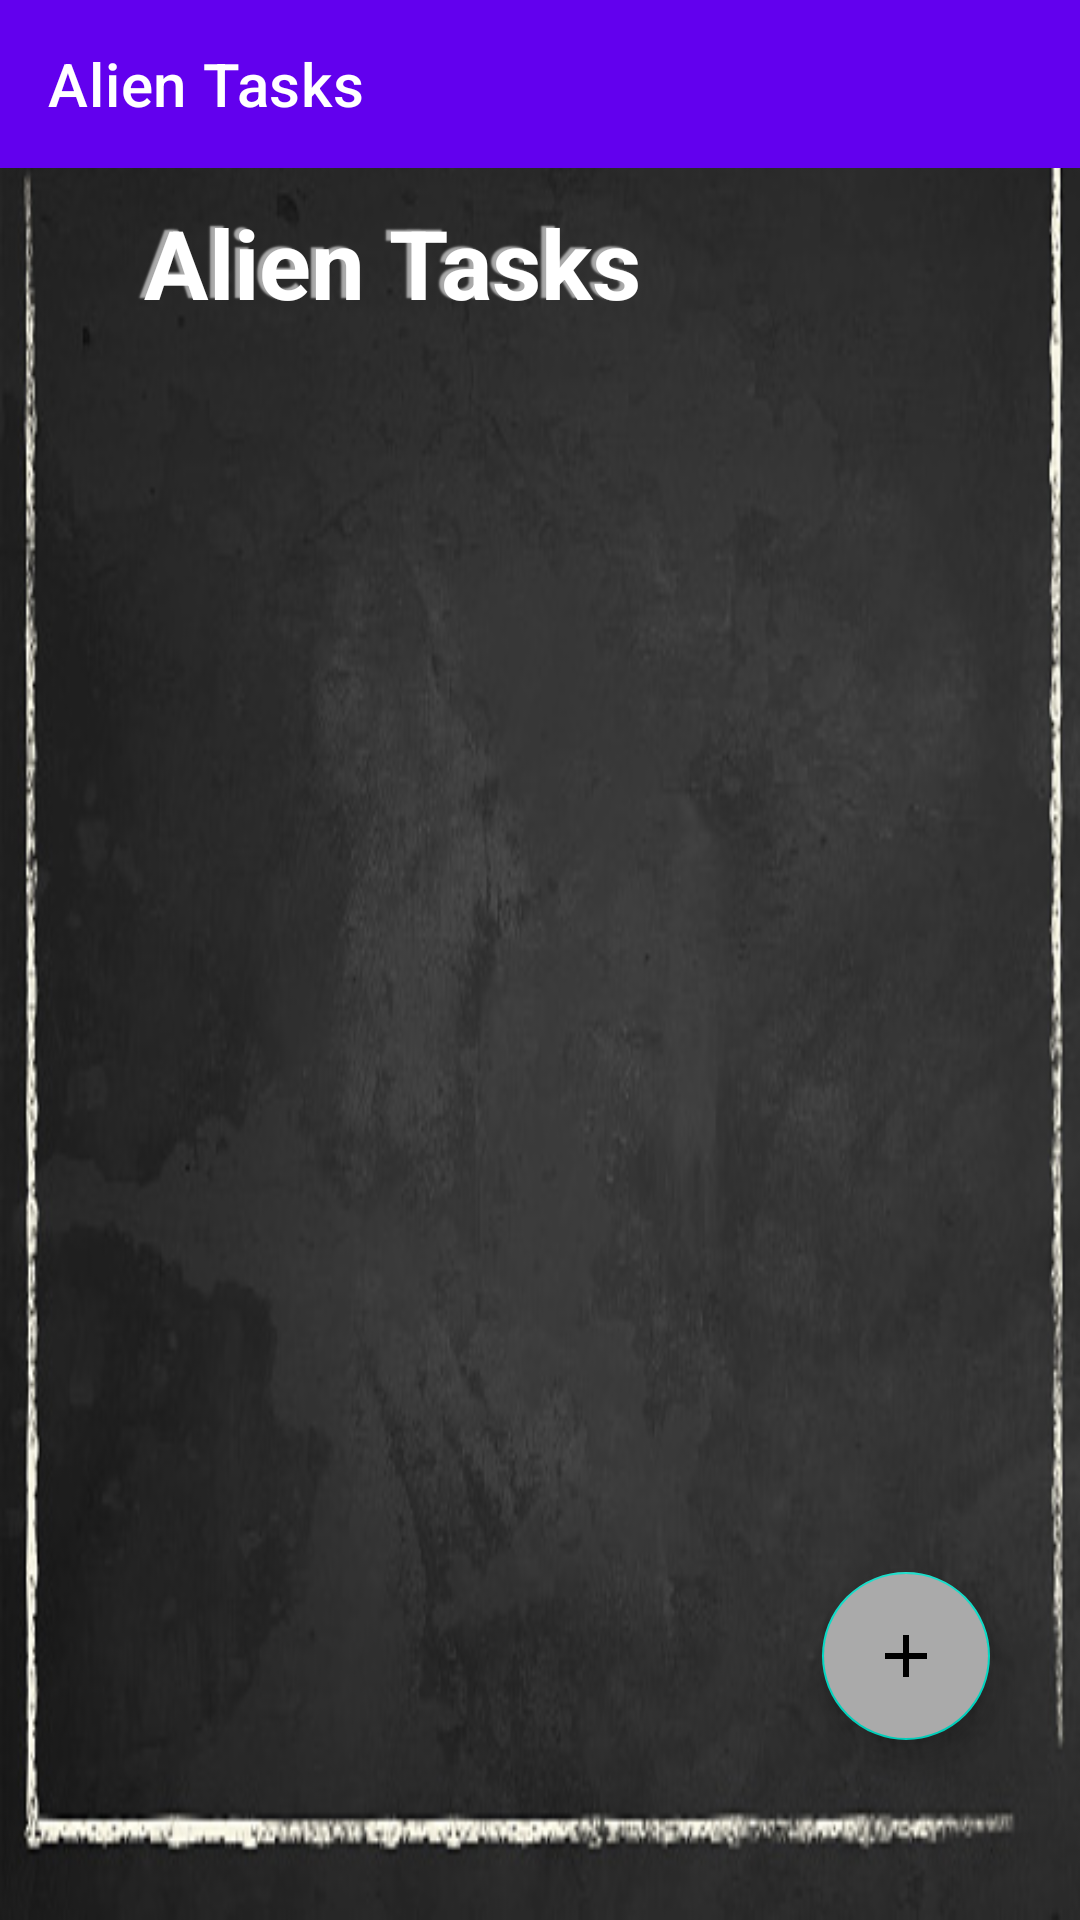

Icon bounding boxes for this 1080×1920 phone screenshot, format [x1,y1,x2,y2]:
plusicon: [822,1572,990,1740]
